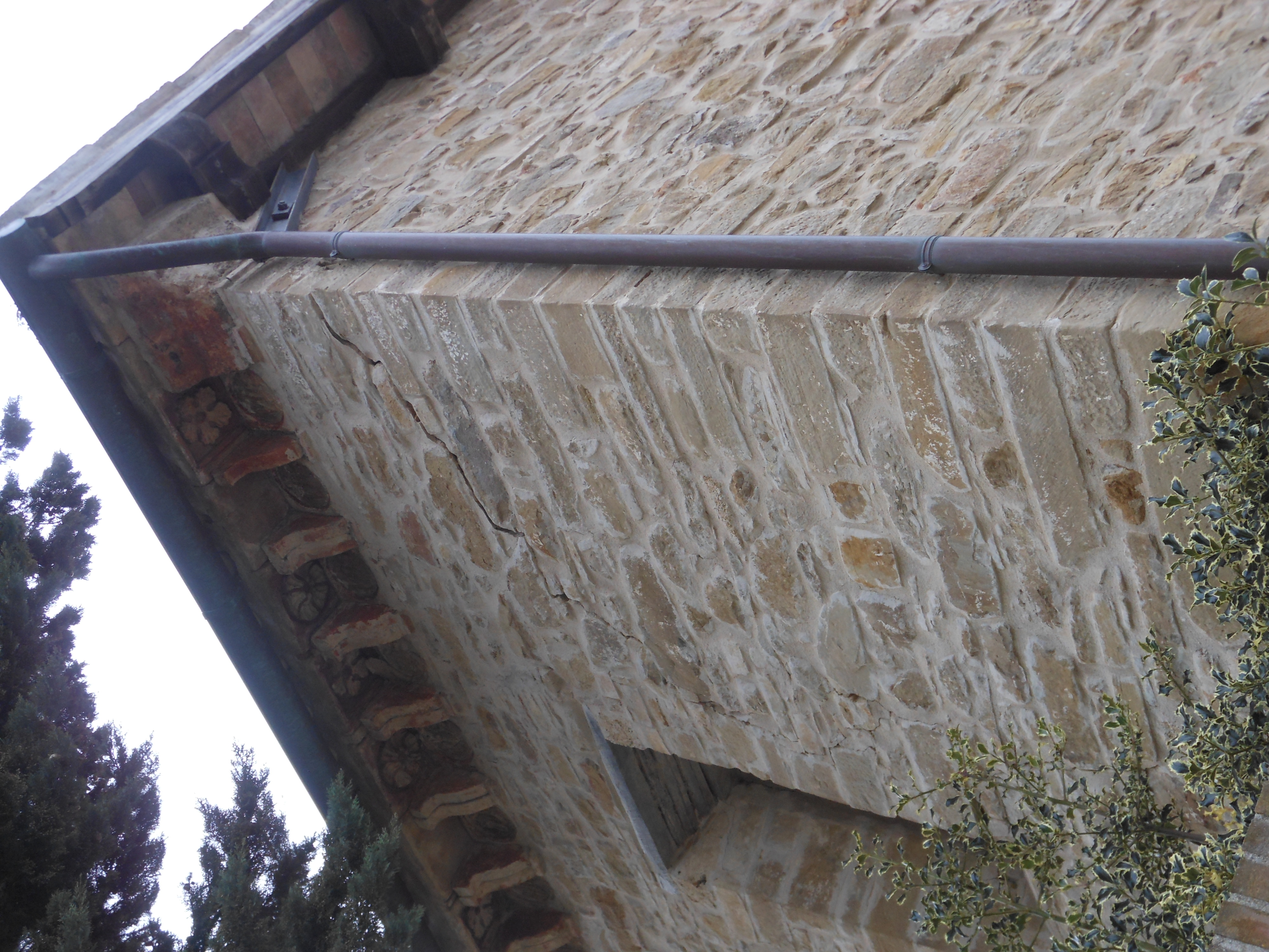Crack: (314, 295, 994, 793)
